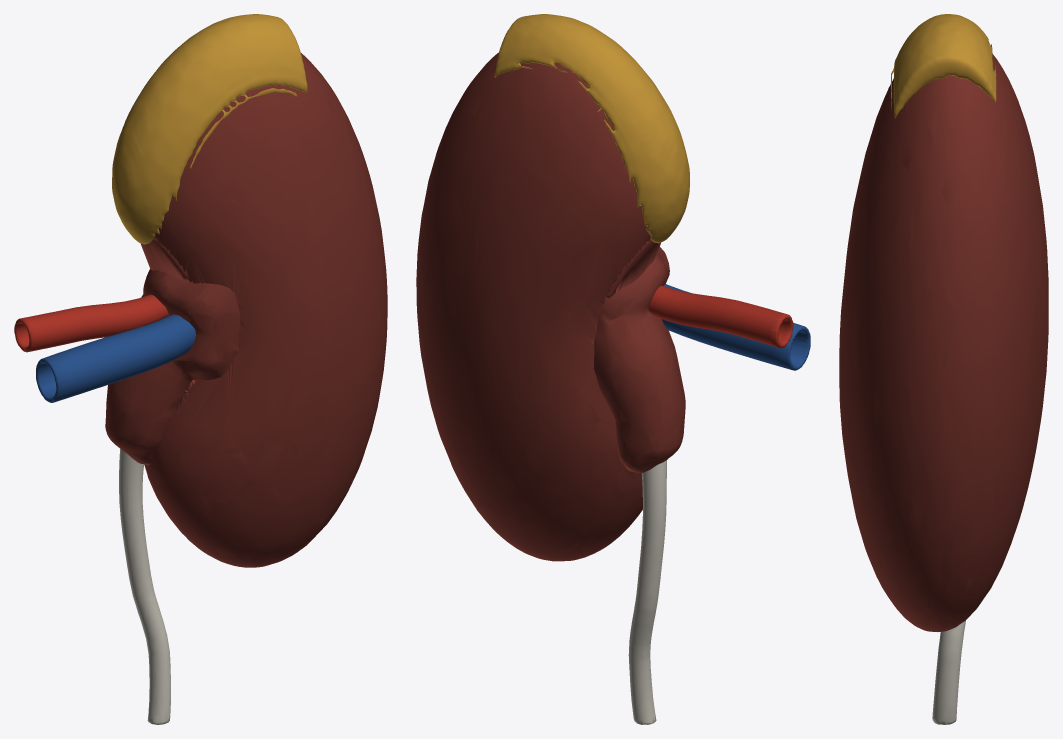
Rendered from kidney_hydro_2.glb.
3 renders of one model, left to right at view 1: azimuth 30°, elevation 25°; view 2: azimuth 150°, elevation 25°; view 3: azimuth 270°, elevation 25°, orthographic. The views are drawn at different scales.
Parts seen in each view (by area): view 1: kidney_body, adrenal_gland, renal_vein, ureter, renal_artery; view 2: kidney_body, adrenal_gland, ureter, renal_artery, renal_vein; view 3: kidney_body, adrenal_gland, ureter.
Boxes of the visible parts, bbox=[...] form: kidney_body: bbox=[105, 53, 387, 567]; adrenal_gland: bbox=[112, 14, 307, 244]; renal_vein: bbox=[36, 314, 195, 402]; ureter: bbox=[119, 449, 170, 724]; renal_artery: bbox=[14, 294, 169, 352]; kidney_body: bbox=[416, 52, 685, 561]; adrenal_gland: bbox=[494, 14, 689, 243]; ureter: bbox=[628, 460, 666, 724]; renal_artery: bbox=[648, 285, 793, 348]; renal_vein: bbox=[661, 284, 810, 370]; kidney_body: bbox=[839, 54, 1048, 631]; adrenal_gland: bbox=[890, 14, 996, 118]; ureter: bbox=[932, 620, 965, 724].
Size of the model in its own units: 7.85 by 14.23 by 3.65.
